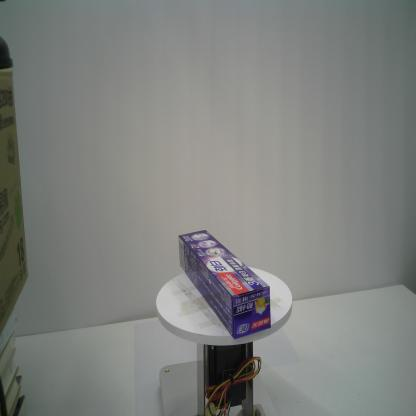Personal Hygiene: (176, 228, 274, 343)
